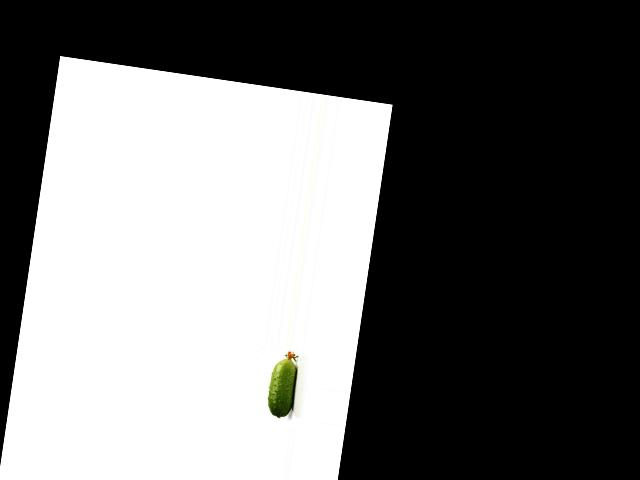cucumber: (265, 350, 300, 420)
